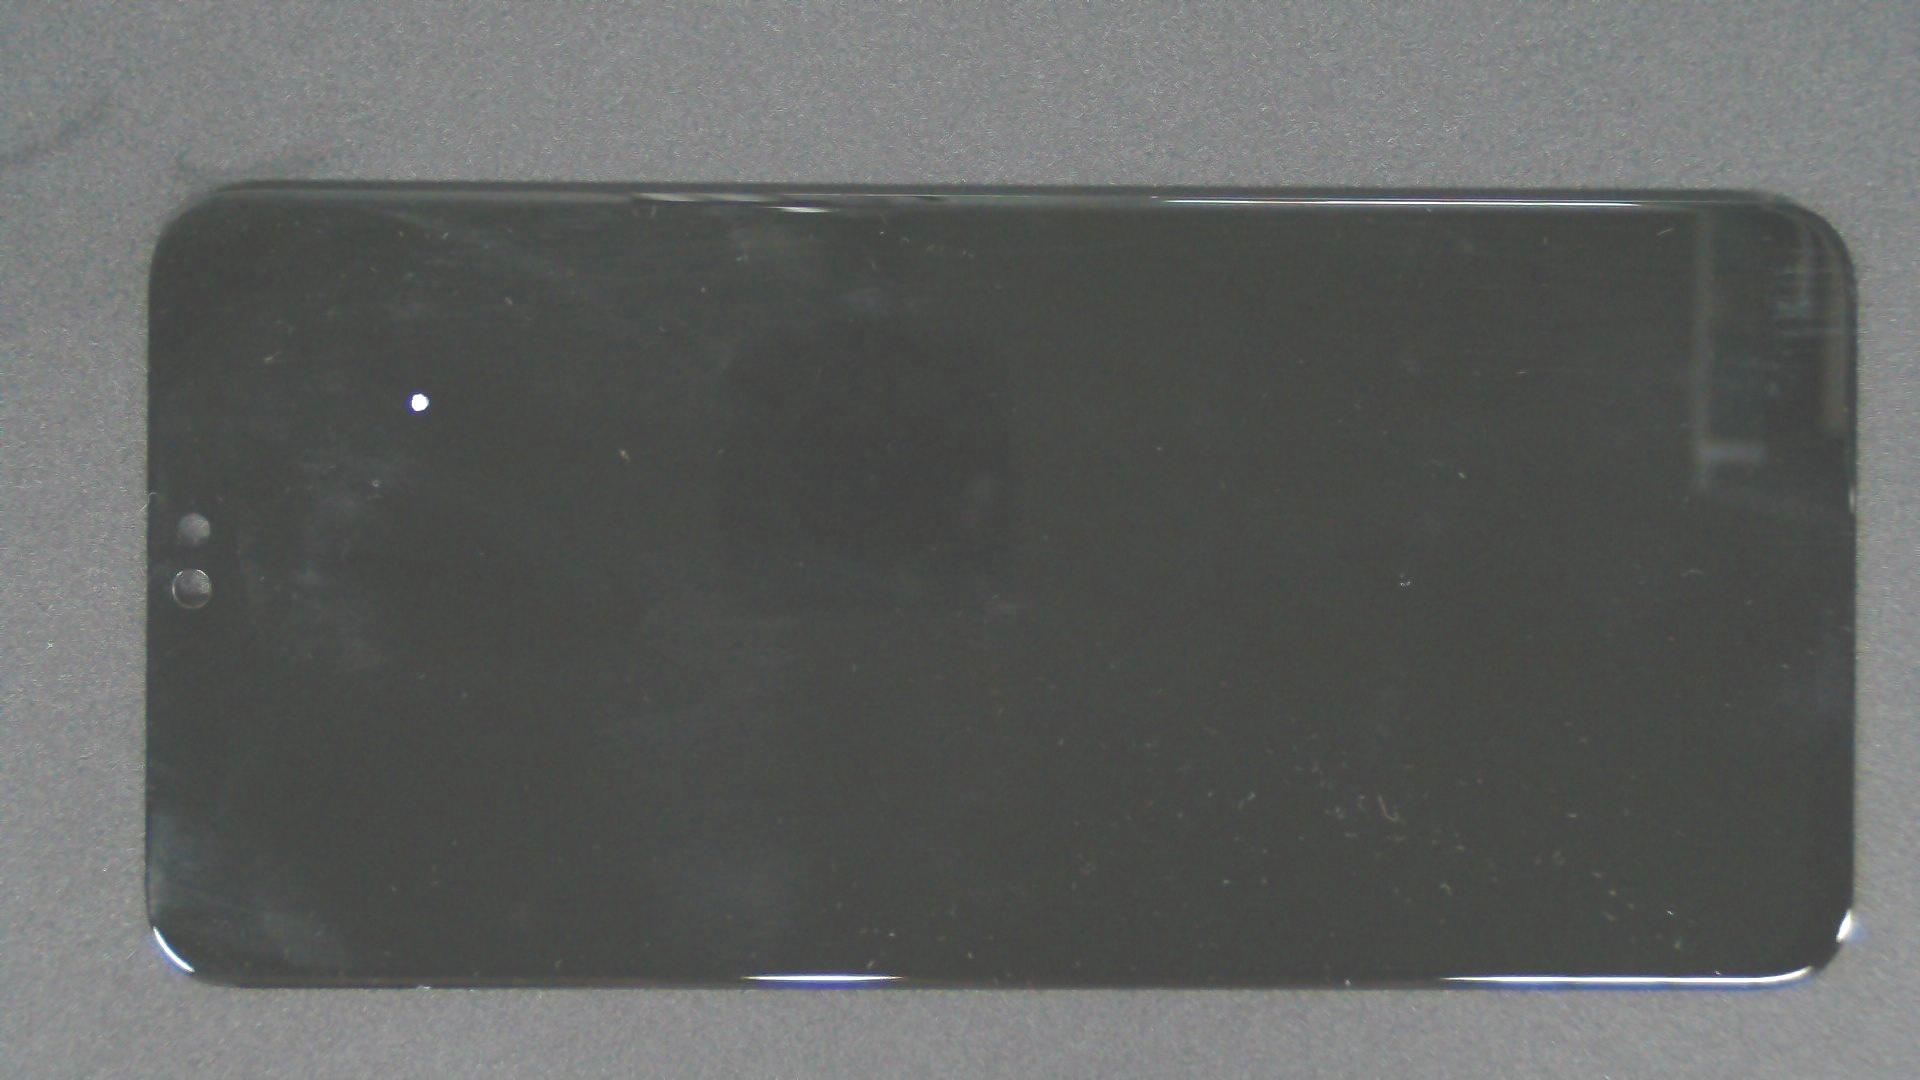oil: (211, 195, 629, 588)
